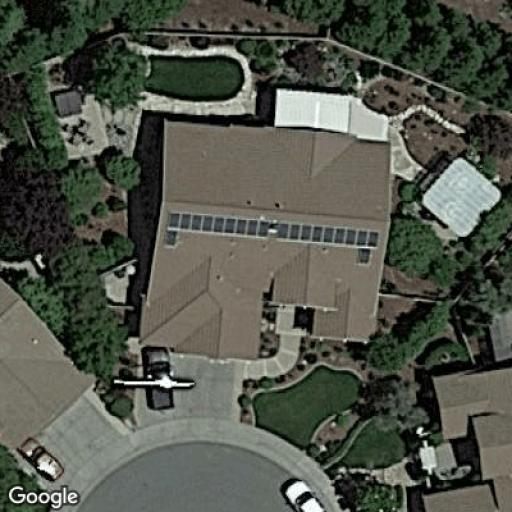solar-panel: (268, 220, 381, 266), (162, 211, 270, 248)
